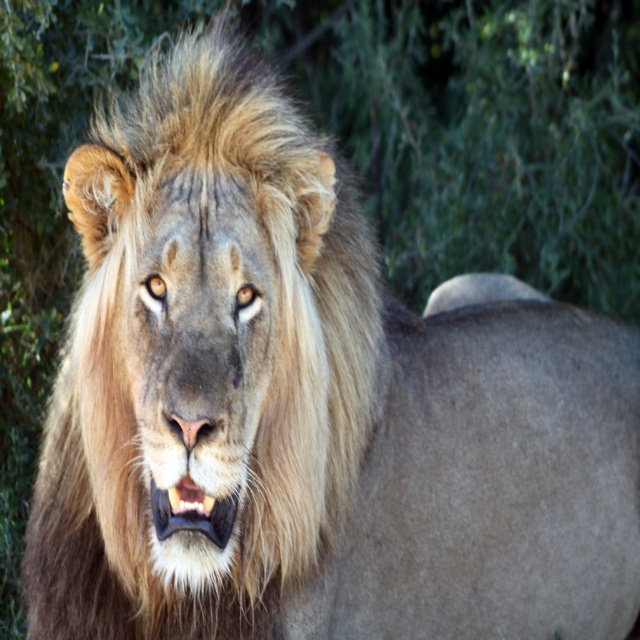Lion: (23, 0, 640, 639)
